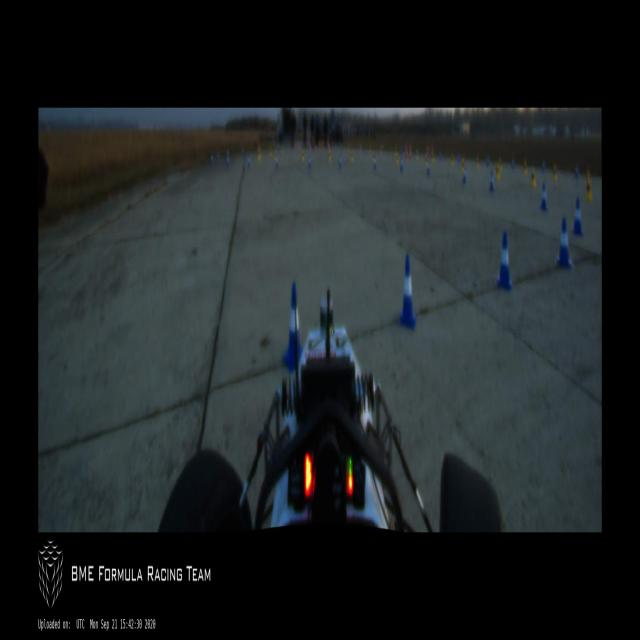blue_cone: (283, 282, 303, 370), (399, 256, 416, 326), (496, 232, 512, 288), (557, 217, 571, 266), (573, 197, 584, 237), (540, 182, 549, 212), (489, 171, 495, 192), (462, 166, 467, 185), (226, 150, 230, 168), (308, 153, 312, 169), (339, 152, 342, 168), (511, 157, 515, 169), (400, 157, 403, 170), (542, 160, 545, 172), (276, 157, 279, 168), (576, 164, 578, 179), (439, 150, 442, 160), (428, 161, 430, 175), (211, 153, 213, 167), (241, 147, 244, 156), (248, 154, 250, 167), (374, 157, 376, 169), (217, 151, 219, 163), (458, 153, 460, 165)
orange_cone: (405, 146, 408, 160), (410, 144, 412, 158)
yellow_cone: (586, 173, 592, 202), (530, 168, 537, 189), (552, 165, 558, 183), (495, 162, 500, 180), (523, 159, 527, 176), (257, 147, 261, 162), (461, 158, 465, 172), (396, 152, 399, 166), (451, 152, 454, 166), (476, 154, 479, 168), (499, 157, 502, 171), (281, 146, 284, 158), (328, 152, 331, 163), (302, 150, 304, 163), (416, 149, 418, 162), (351, 151, 353, 163), (379, 145, 382, 153), (487, 156, 489, 167), (432, 152, 434, 163), (426, 155, 428, 166), (372, 152, 374, 163), (270, 146, 272, 156), (394, 146, 396, 154), (275, 150, 276, 160)
